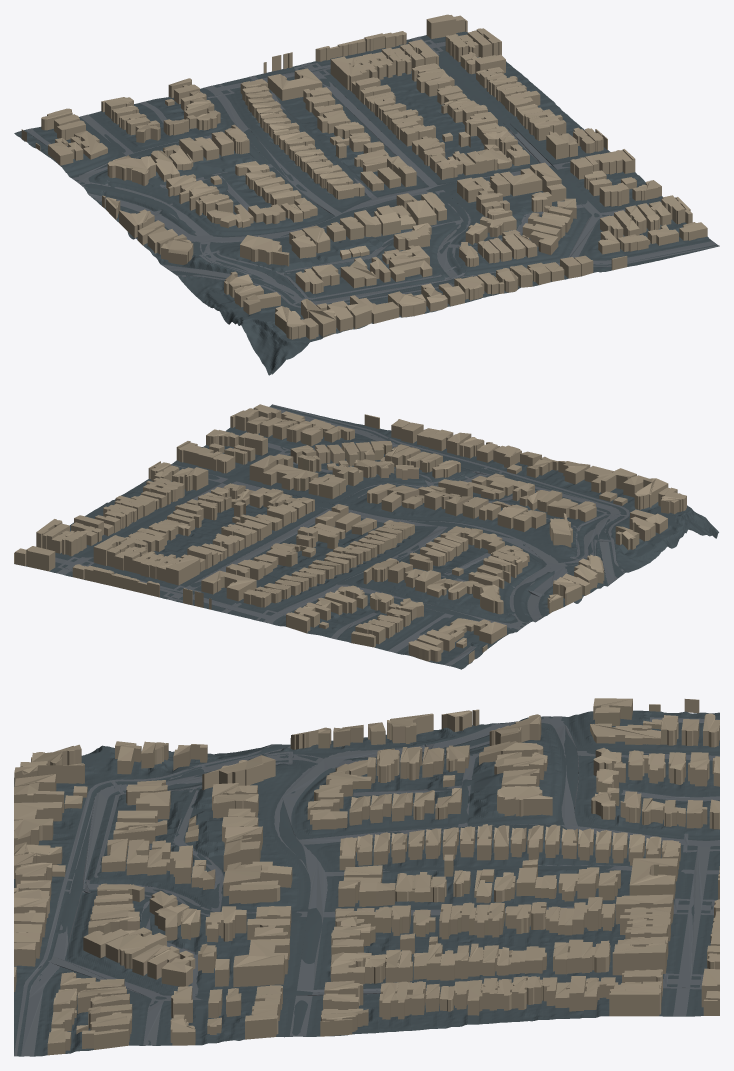
File: epsg26910-1419-10891.lod0.glb
The picture shows the model from 3 angles, top to bottom: view 1: azimuth 30°, elevation 25°; view 2: azimuth 150°, elevation 25°; view 3: azimuth 270°, elevation 25°; orthographic projection. The views are drawn at different scales.
Parts seen in each view (by area): view 1: epsg26910-1419-10891-lod0; view 2: epsg26910-1419-10891-lod0; view 3: epsg26910-1419-10891-lod0.
Boxes of the visible parts, x1,y1,x2,y2 form: epsg26910-1419-10891-lod0: [14, 14, 719, 375]; epsg26910-1419-10891-lod0: [14, 404, 718, 669]; epsg26910-1419-10891-lod0: [14, 698, 719, 1056].
Bounding box in the file's own units: 384 × 59.88 × 384.
